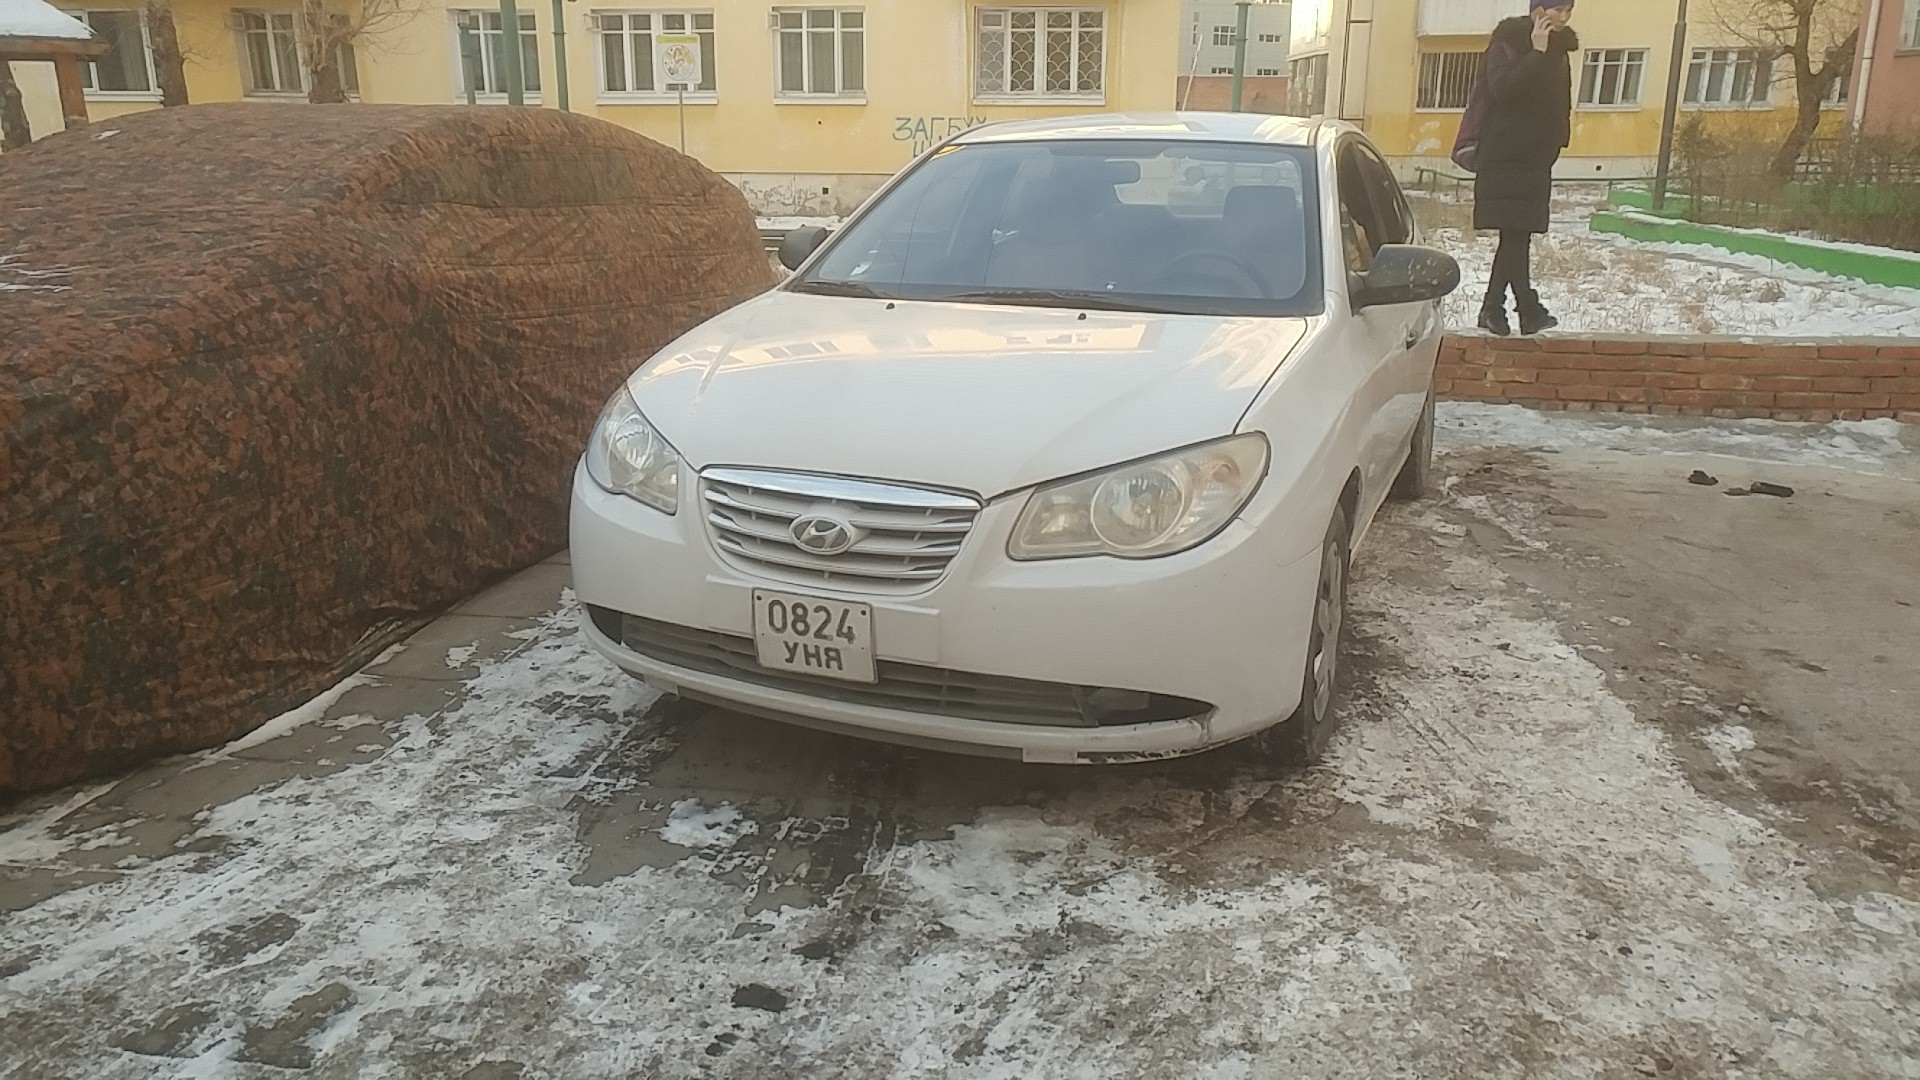0: (767, 599, 788, 635)
2: (812, 604, 833, 641)
4: (837, 607, 857, 643)
8: (790, 602, 810, 635)
n: (803, 642, 823, 669)
plate: (745, 581, 888, 699)
u: (782, 639, 801, 664)
ya: (822, 646, 845, 673)
